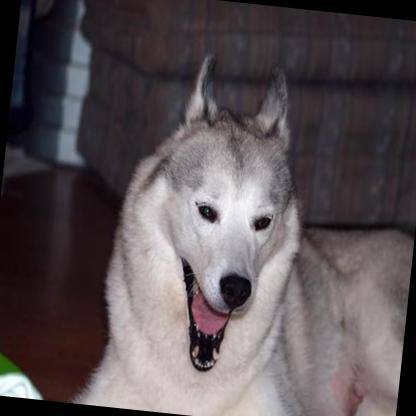Siberian_husky: (71, 28, 416, 416)
